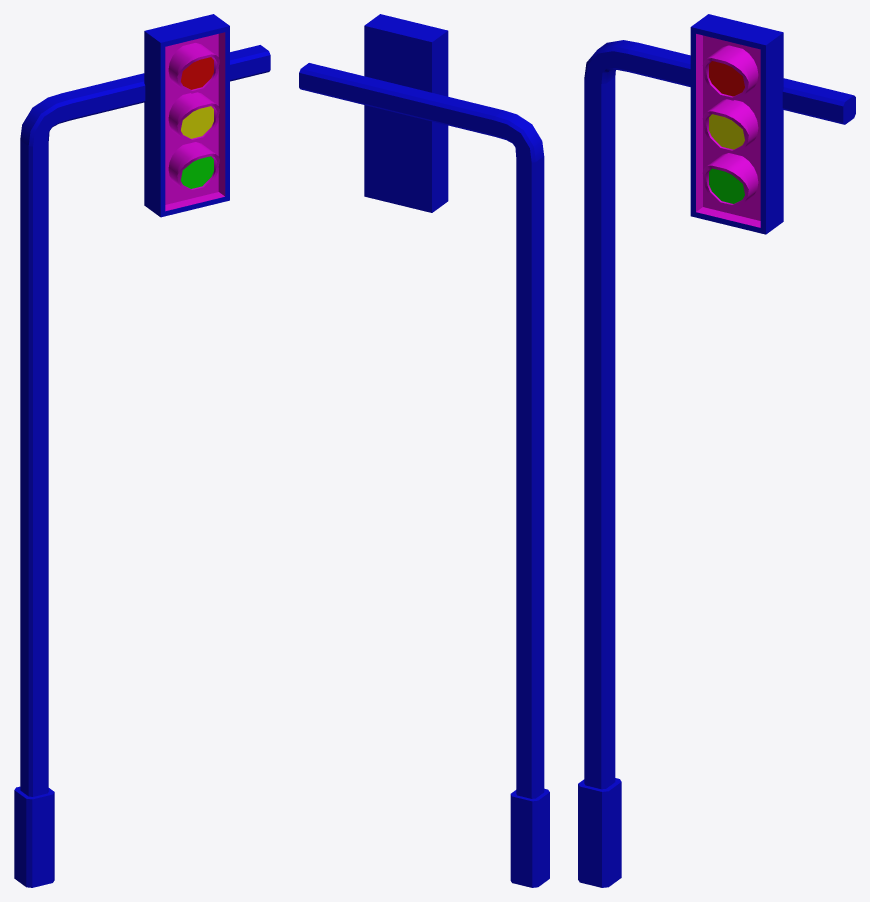
The model's file is TrafficLightsA2.fbx.
3 views of the same model, side by side, from view 1: azimuth 30°, elevation 25°; view 2: azimuth 150°, elevation 25°; view 3: azimuth 330°, elevation 25° (orthographic). The views are drawn at different scales.
Visible parts, largest first — view 1: TrafficLightsA2; view 2: TrafficLightsA2; view 3: TrafficLightsA2.
Part boxes in pixels (left/top/right/bottom): TrafficLightsA2: left=14, top=14, right=270, bottom=887; TrafficLightsA2: left=299, top=14, right=549, bottom=887; TrafficLightsA2: left=578, top=14, right=855, bottom=887.
Bounding box in the file's own units: 143 × 462 × 39.2.
